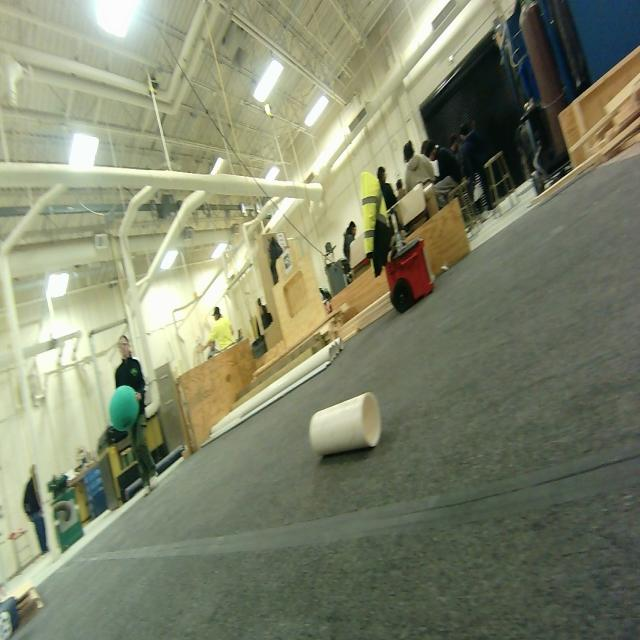algae: (108, 383, 146, 440)
coral: (307, 384, 389, 465)
